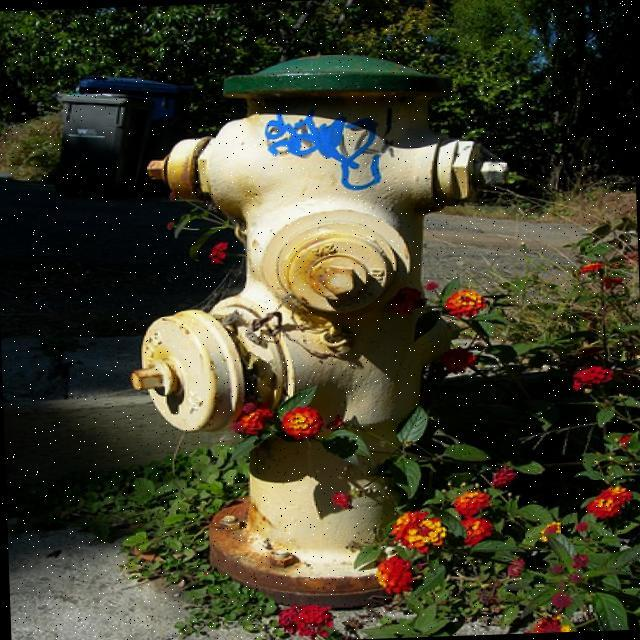fire_hydrant: (120, 46, 532, 612)
